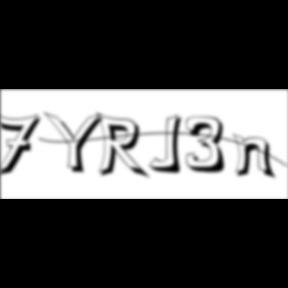3: (186, 116, 232, 176)
7: (0, 111, 48, 179)
J: (150, 114, 189, 176)
R: (97, 112, 154, 182)
Y: (42, 110, 110, 176)
n: (232, 132, 280, 181)
